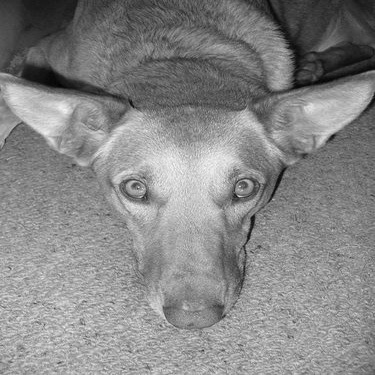dog: (3, 1, 372, 335)
